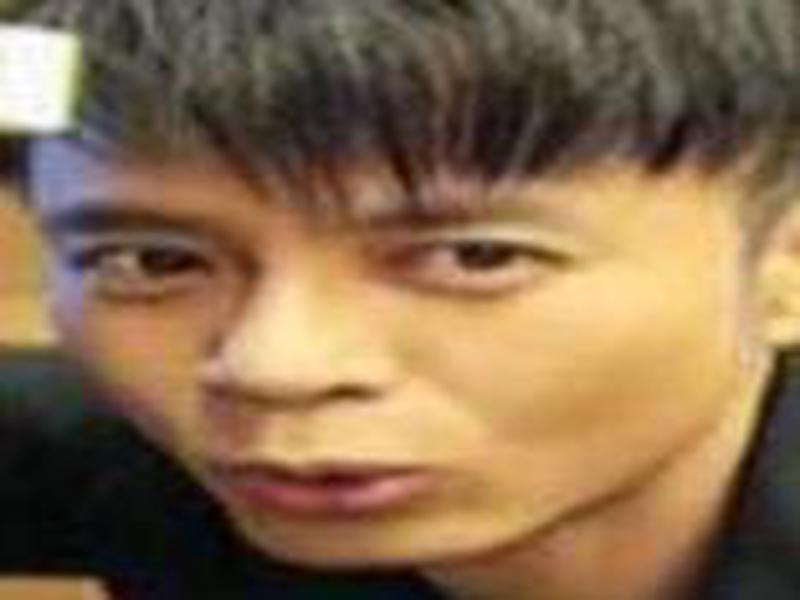without_mask: (23, 97, 744, 565)
